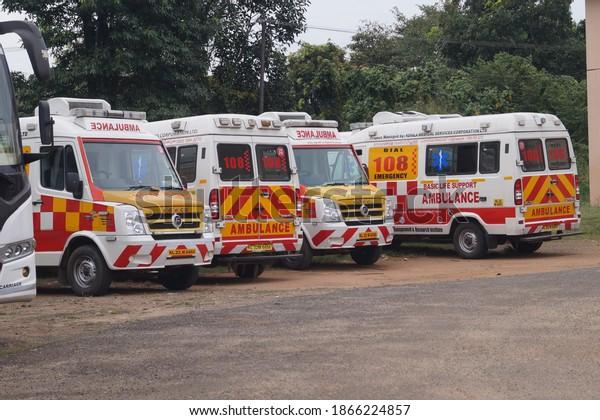ER: (9, 94, 213, 289), (345, 112, 588, 241), (149, 115, 308, 264), (271, 112, 395, 249)
